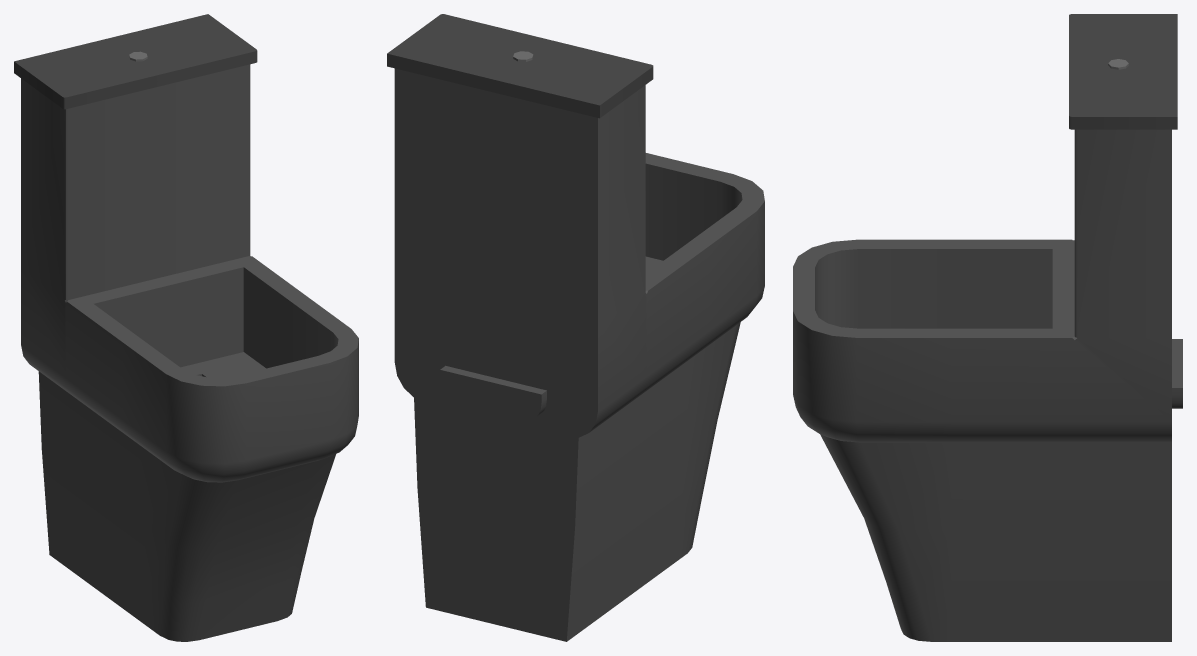
File: Toilet2_C2_01.fbx
3 renders of one model, left to right at view 1: azimuth 30°, elevation 25°; view 2: azimuth 150°, elevation 25°; view 3: azimuth 270°, elevation 25°, orthographic. The views are drawn at different scales.
Parts seen in each view (by area): view 1: Toilet2_C2_01; view 2: Toilet2_C2_01; view 3: Toilet2_C2_01.
Part boxes in pixels (<box>): Toilet2_C2_01: <box>14,14,358,641</box>; Toilet2_C2_01: <box>387,14,764,641</box>; Toilet2_C2_01: <box>793,14,1182,641</box>.
Size of the model in its own units: 34.58 by 85.34 by 55.36.
